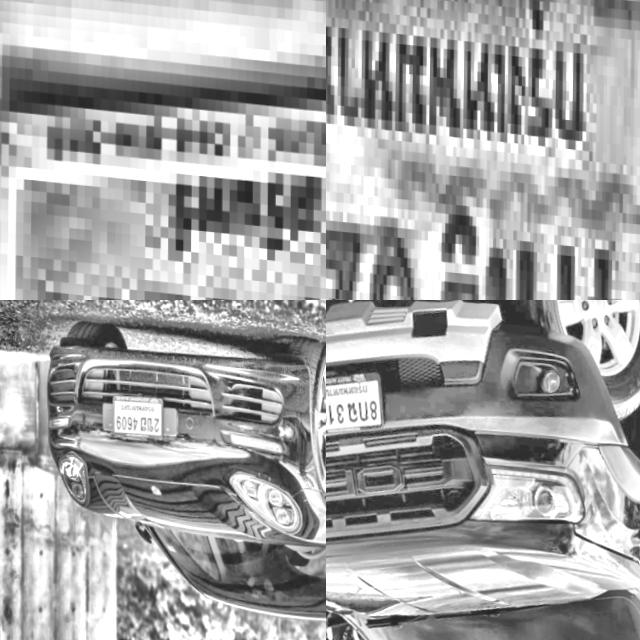license-plate: (0, 0, 326, 300), (326, 0, 640, 300), (326, 358, 390, 442), (107, 382, 167, 439)
